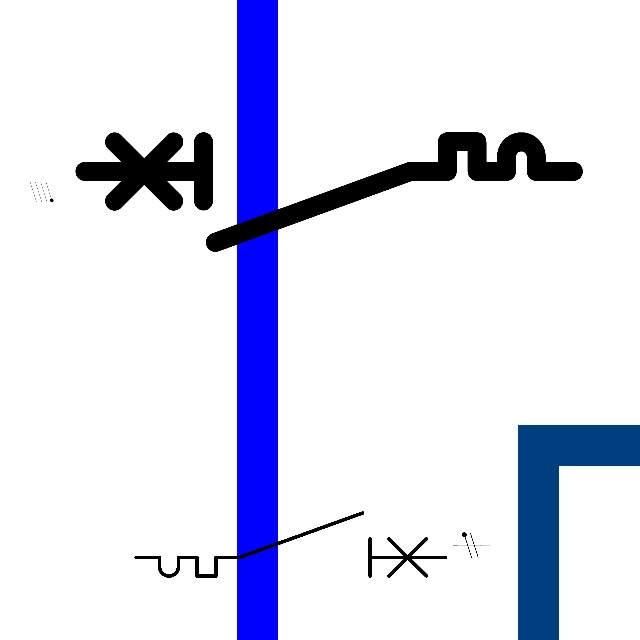interruptor_termomagnetico: (72, 129, 586, 255), (128, 505, 453, 584)
